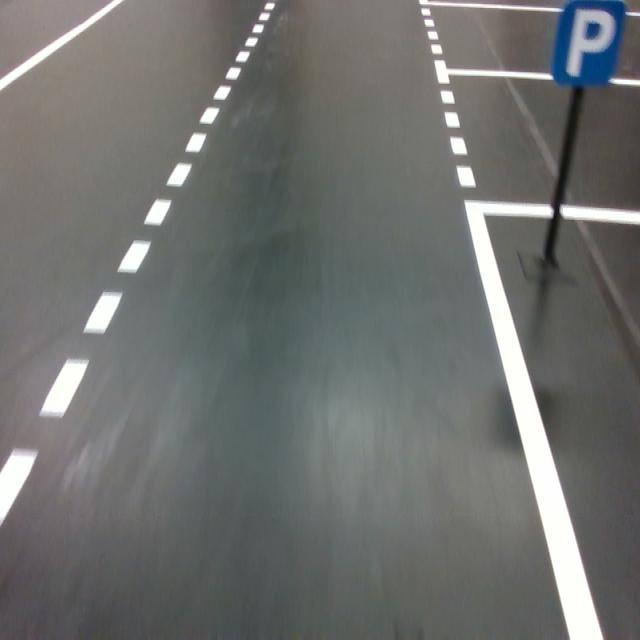parking-sign: (550, 0, 628, 88)
